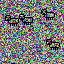sheep: (45, 38, 61, 51), (19, 13, 34, 26), (40, 8, 56, 20), (5, 15, 19, 26)
